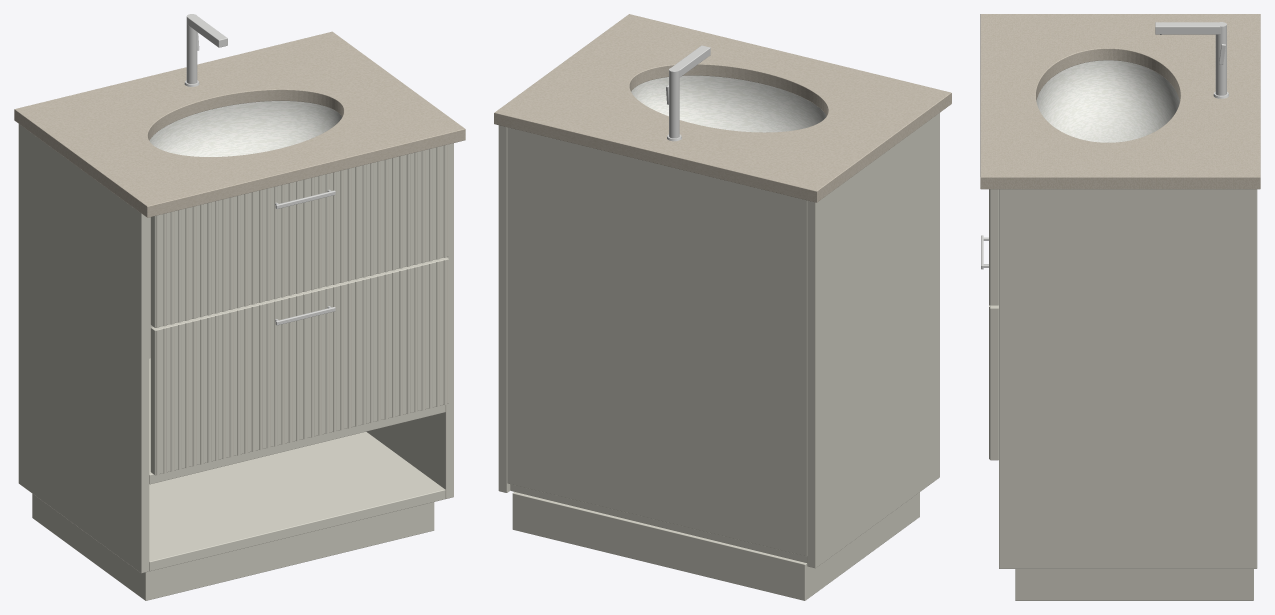
The model's file is cabinet.glb.
3 views of the same model, side by side, from view 1: azimuth 30°, elevation 25°; view 2: azimuth 150°, elevation 25°; view 3: azimuth 270°, elevation 25° (orthographic). The views are drawn at different scales.
Visible parts, largest first — view 1: left, top, lower, base, upper, plinth, lower-reed (×15), basin, right, shelf, tap-stem; view 2: back, left, top, plinth, basin, right, base, tap-stem; view 3: right, top, basin, plinth, lower, upper, spout, tap-stem.
Boxes of the visible parts, x1,y1,x2,y2 form: left: (18, 124, 149, 573); top: (14, 31, 465, 217); lower: (150, 257, 448, 475); base: (149, 432, 445, 571); upper: (150, 144, 448, 327); plinth: (32, 494, 434, 600); lower-reed (×15): (155, 259, 447, 475); basin: (149, 101, 341, 156); right: (366, 143, 453, 498); shelf: (149, 358, 445, 484); tap-stem: (186, 14, 197, 83); back: (507, 127, 807, 556); left: (807, 113, 939, 568); top: (494, 14, 951, 202); plinth: (512, 492, 919, 600); basin: (631, 75, 826, 132); right: (498, 125, 510, 492); base: (510, 484, 807, 562); tap-stem: (669, 67, 679, 138); right: (999, 189, 1257, 568); top: (980, 14, 1260, 189); basin: (1036, 60, 1179, 142); plinth: (1015, 569, 1253, 600); lower: (990, 305, 998, 460); upper: (990, 189, 998, 305); spout: (1155, 22, 1220, 34); tap-stem: (1215, 22, 1226, 95).
Bounding box in the file's own units: 0.69 × 0.99 × 0.5.
Materials: 5 (5 with a texture image).
